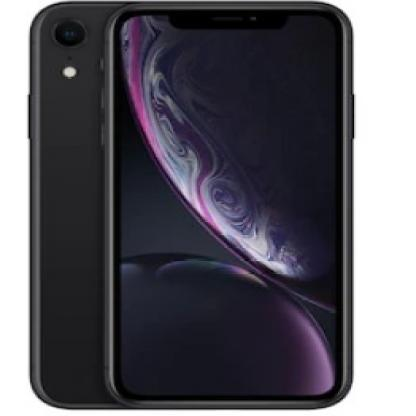SMARTPHONE: (26, 4, 372, 415)
